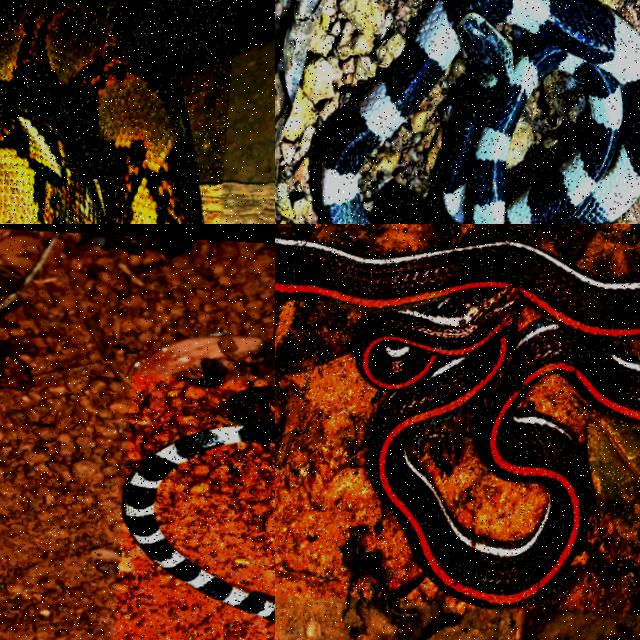Bungarus candidus: (321, 0, 639, 223), (123, 425, 274, 621)
Calliophis intestinalis: (275, 236, 639, 606)
Malayopython reticulatus: (0, 0, 202, 223)
snake: (275, 236, 639, 606), (321, 0, 639, 223), (0, 0, 202, 223), (123, 425, 274, 621)
